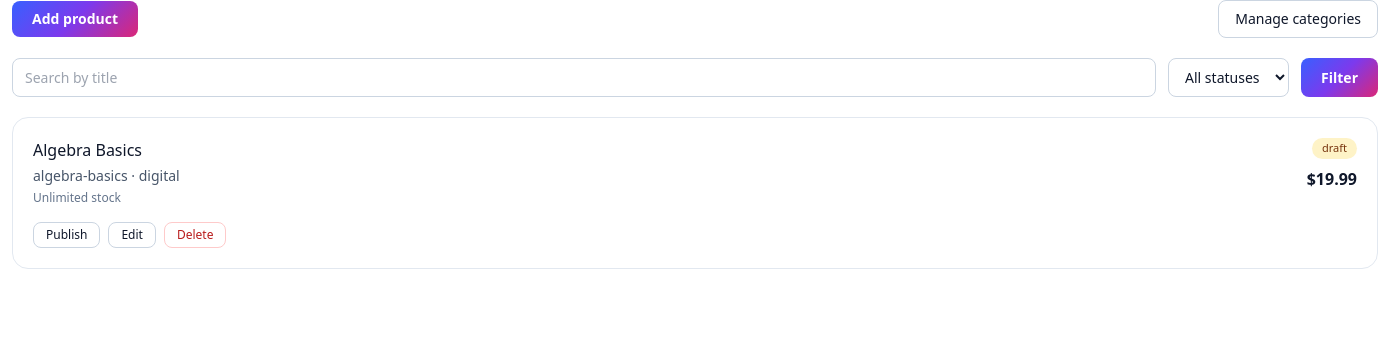
Test: ProductList › surfaces the server's refusal rather than a generic message
Click the button "Publish" at (67, 235), box [33,222,100,248]
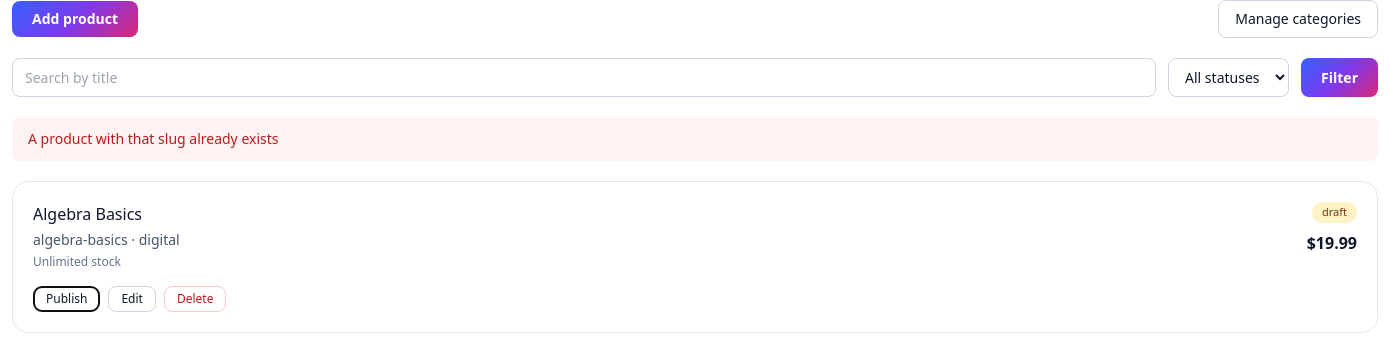
Expected: the message reads "A product with that slug already exists", [28,129,278,148]
